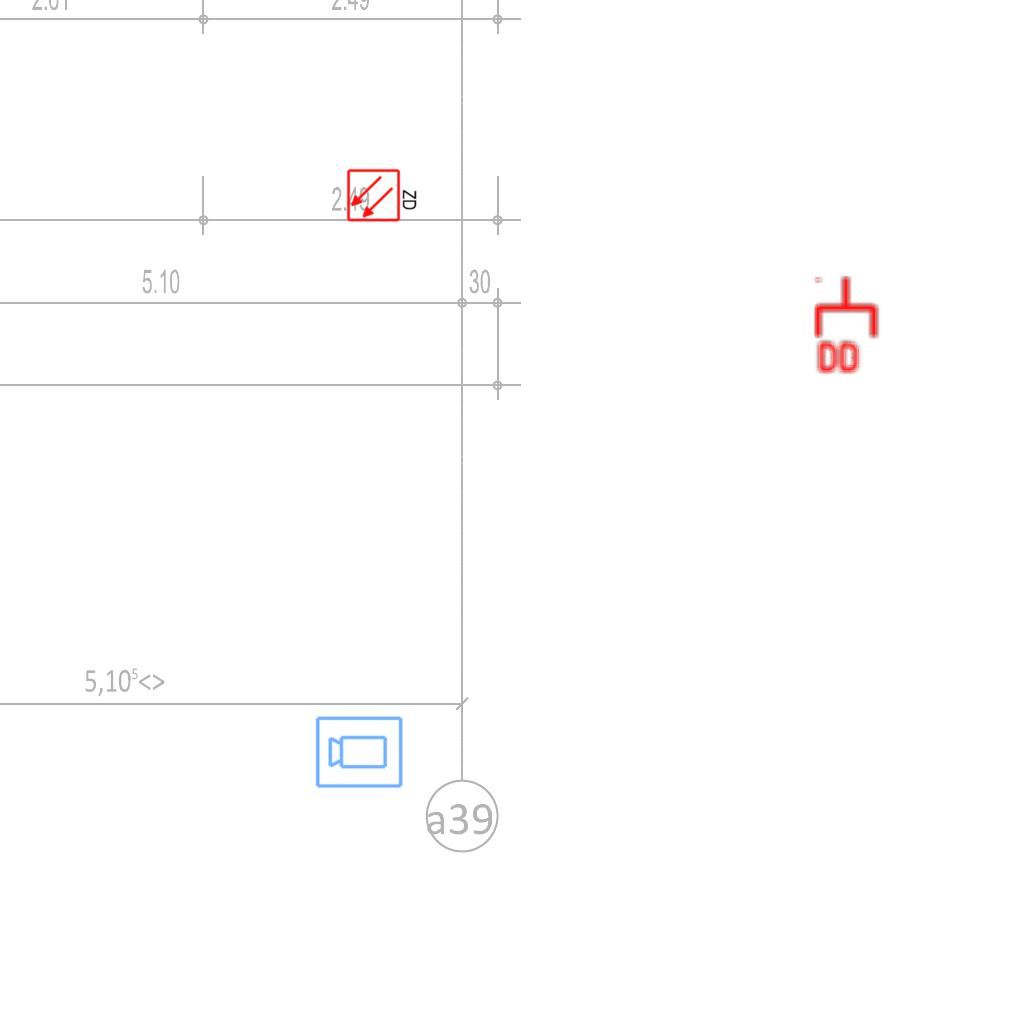Datenanschluss_zweifach: (813, 274, 882, 377)
KFO_Kamera_mit_Festobjektiv: (314, 713, 405, 790)
ZD_Melder_in_Zwischendecke_mit_Revisionsoeffnung_mind_40_x_40_cm: (346, 166, 420, 223)
